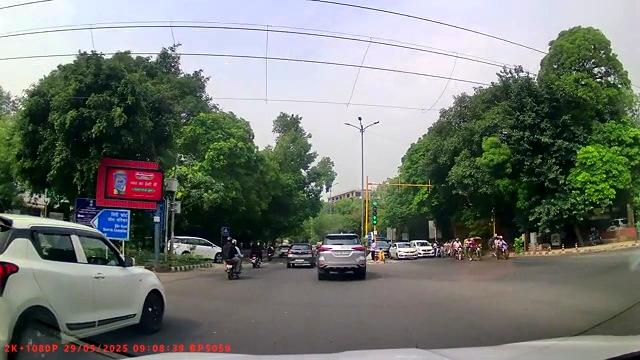passenger_with_helmet: (223, 236, 243, 280)
